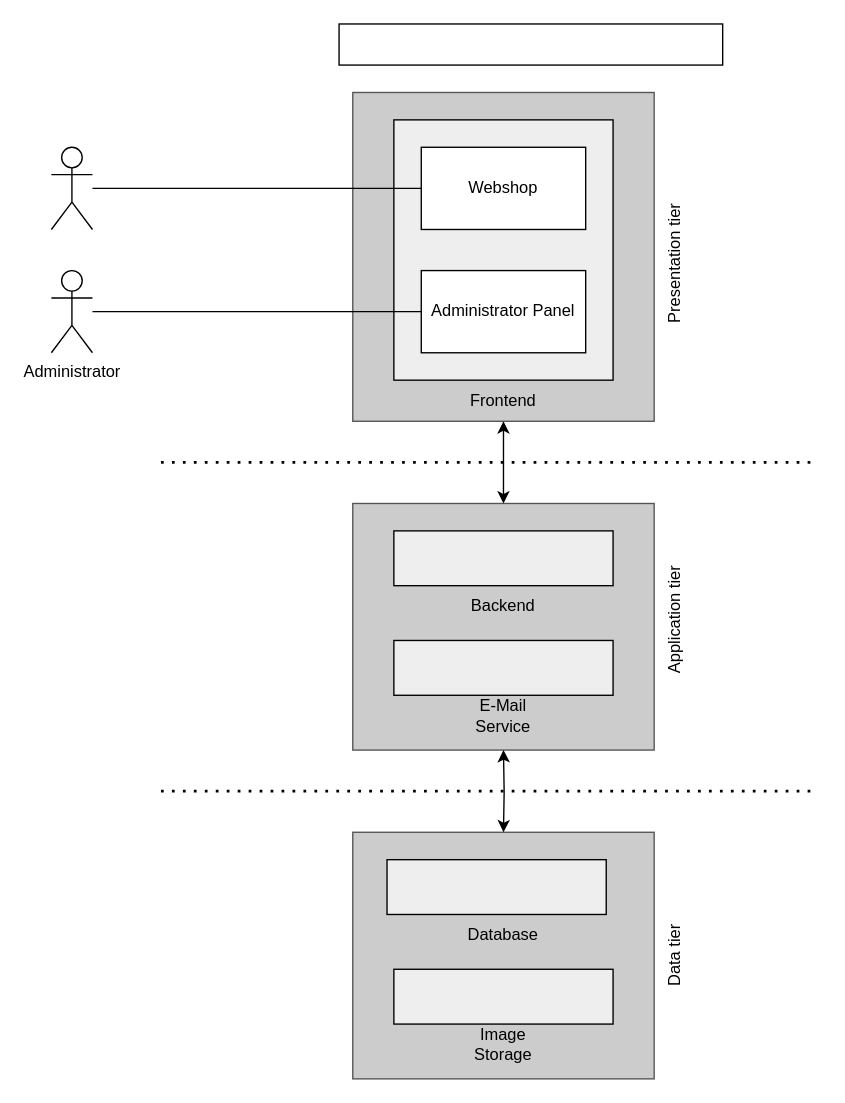
The diagram is 845 pixels wide and 1103 high, and some of its shapes have lost their labels. The shapes that lost their labels are listed below. From the top down, each one's centre as x and y in pixels, then its label:
the point at 530,44: Three-Tier Architecture
the point at 71,187: Customer
